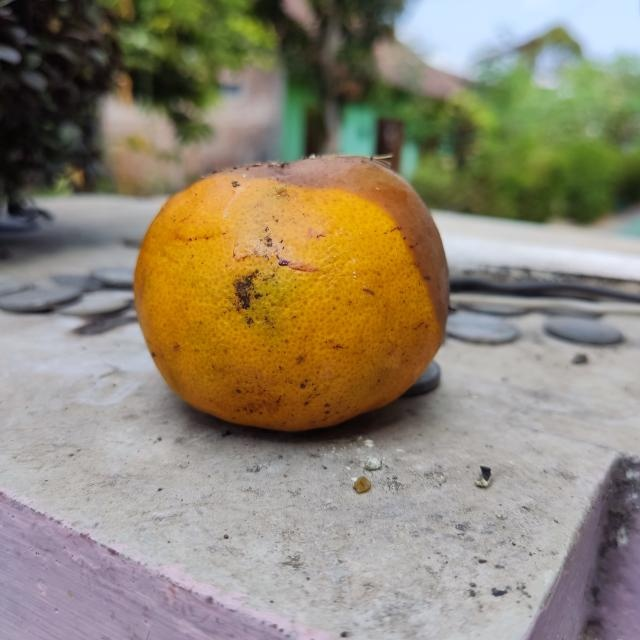agrume: (130, 156, 452, 434)
